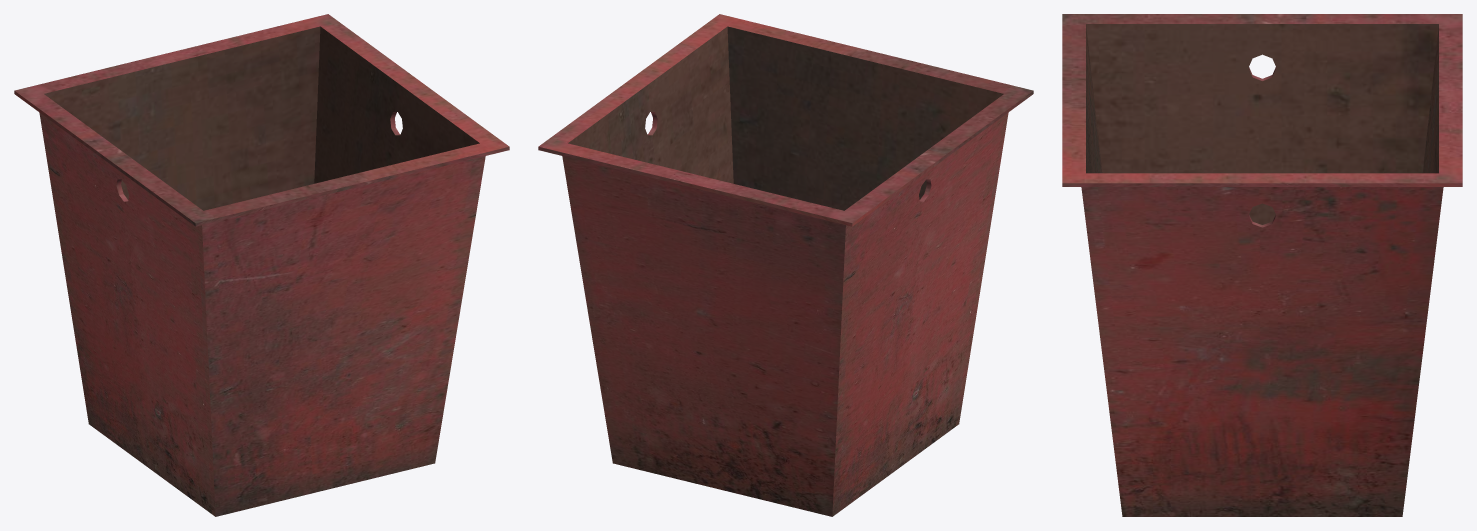
The model's file is sov_bin.glb.
3 views of the same model, side by side, from view 1: azimuth 30°, elevation 25°; view 2: azimuth 150°, elevation 25°; view 3: azimuth 270°, elevation 25° (orthographic). The views are drawn at different scales.
Parts seen in each view (by area): view 1: can; view 2: can; view 3: can.
Boxes of the visible parts, x1=… form: can: x1=14, y1=14, x2=509, y2=516; can: x1=538, y1=14, x2=1033, y2=516; can: x1=1062, y1=14, x2=1462, y2=516.
Size of the model in its own units: 0.95 by 0.94 by 0.95.
Materials: 1 (1 with a texture image).
